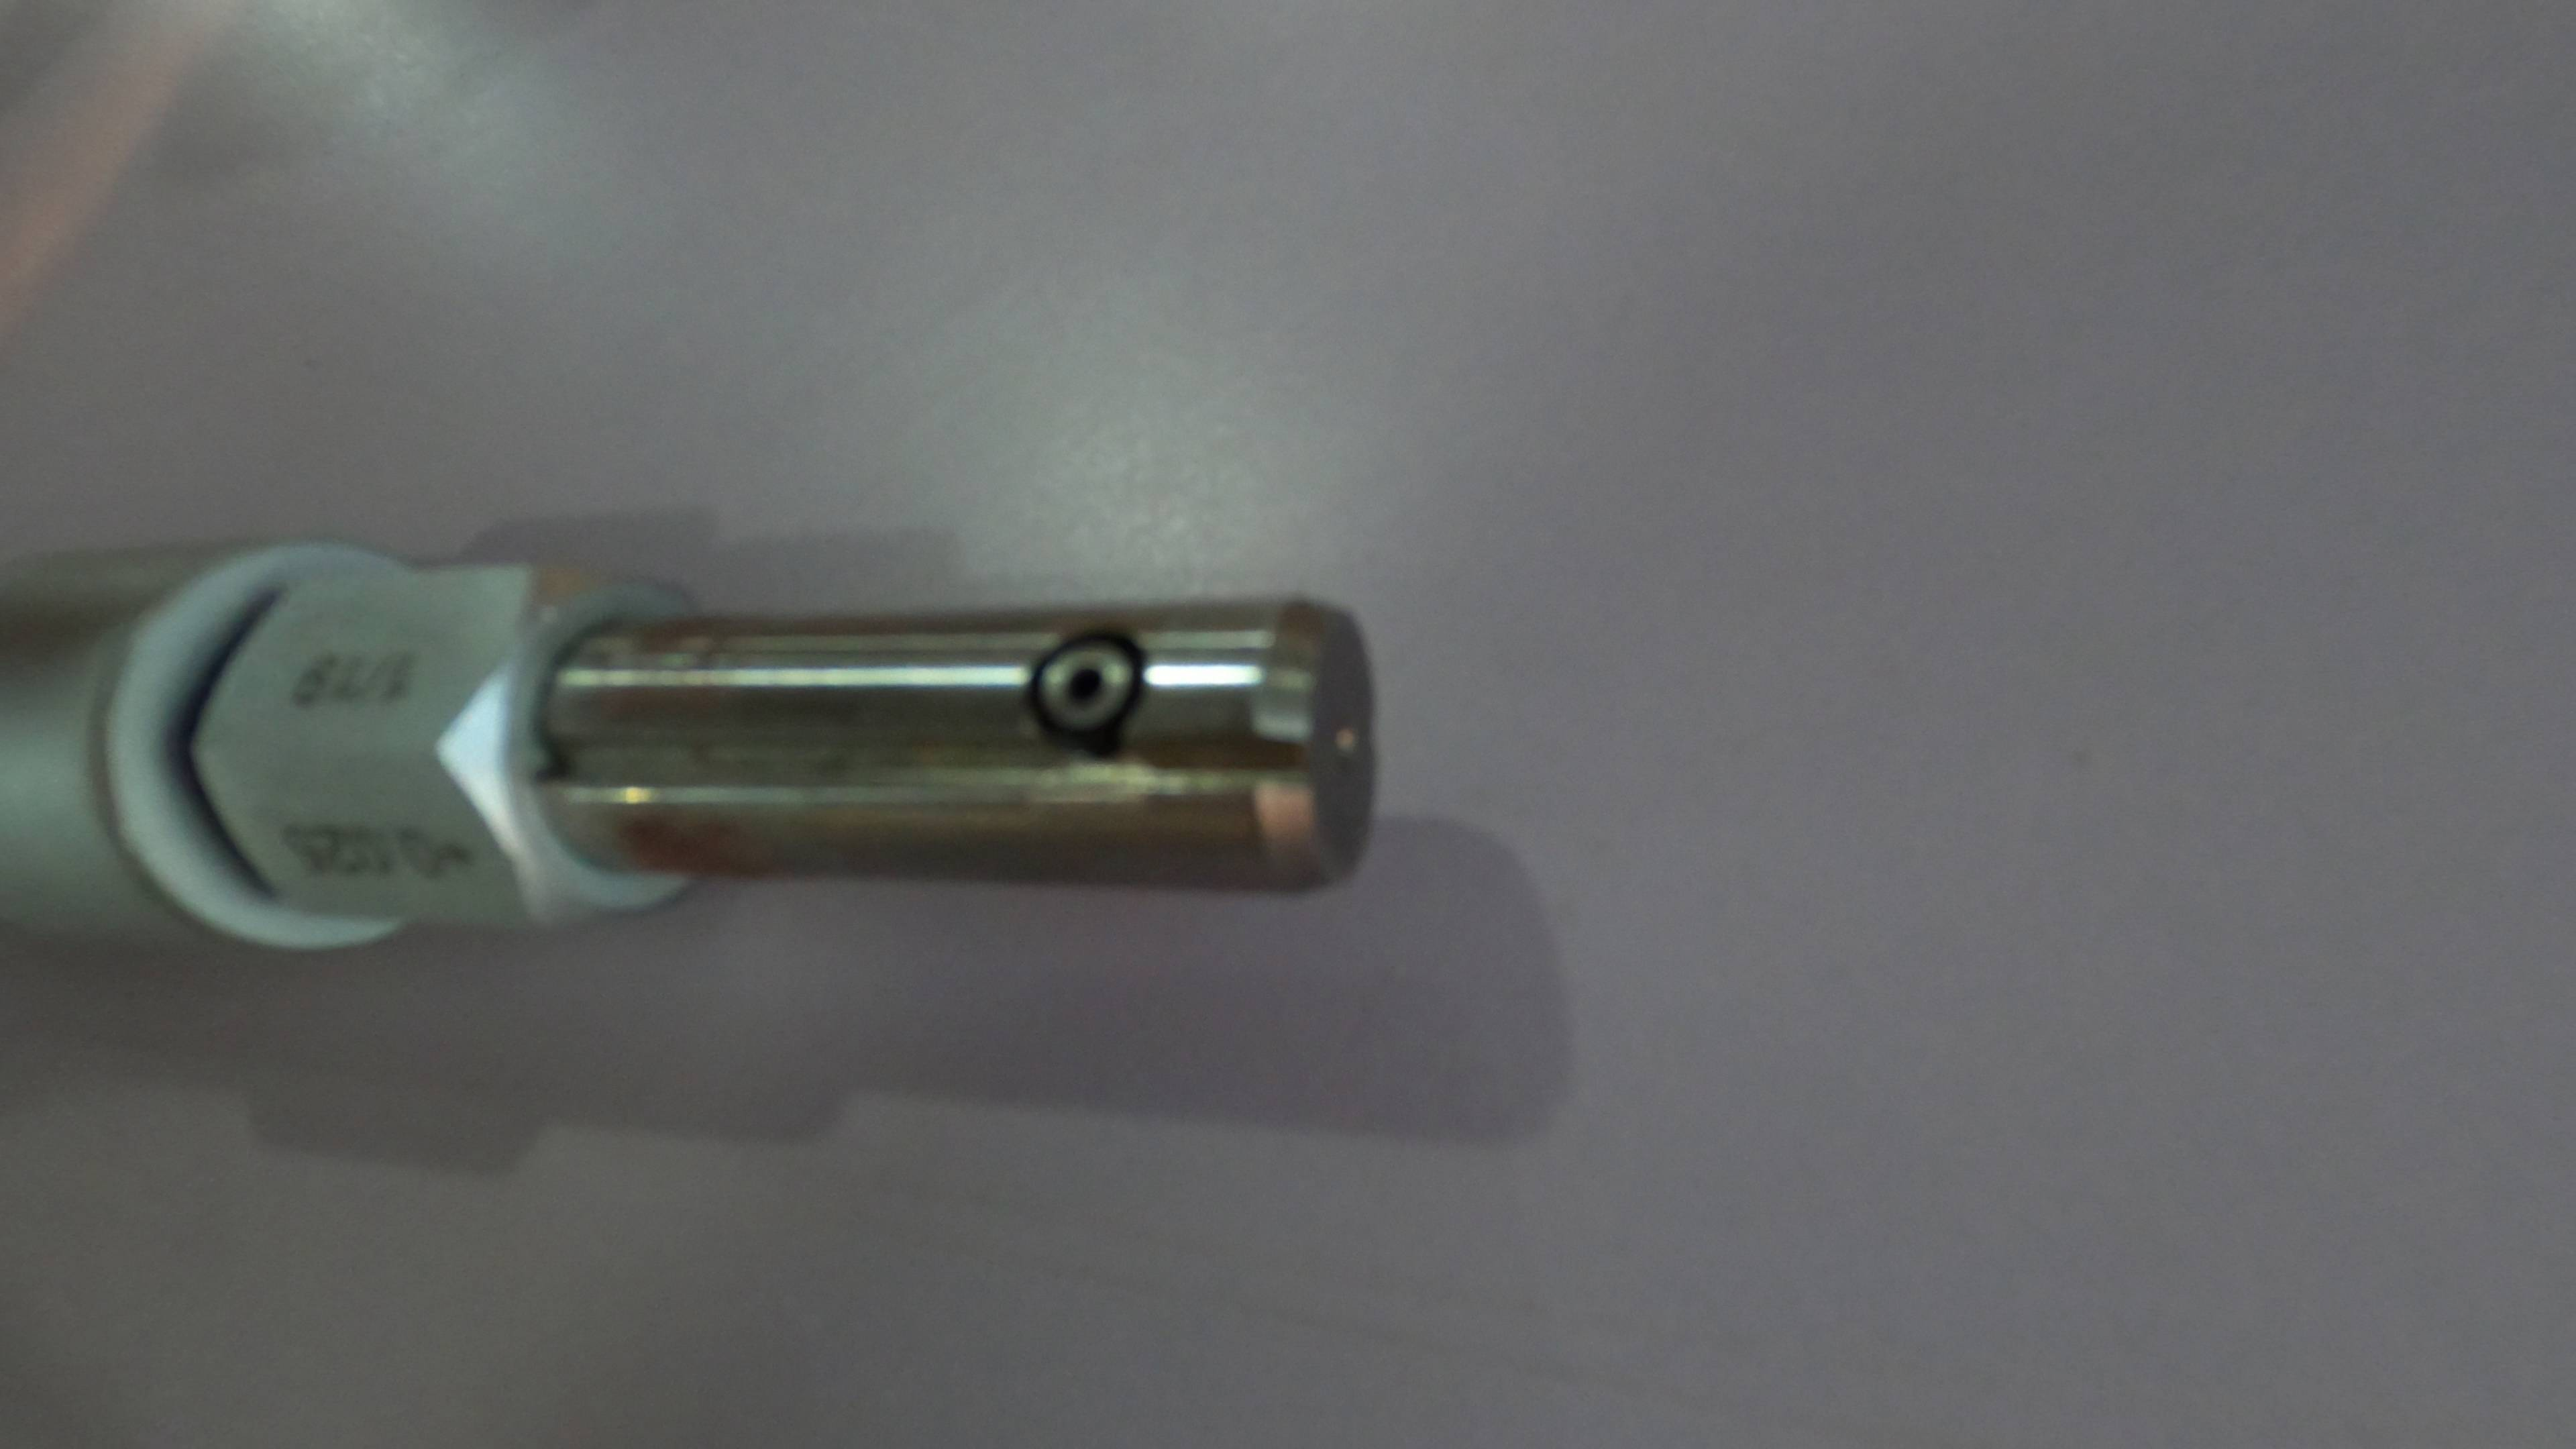air_gauge: (2, 531, 1380, 973)
